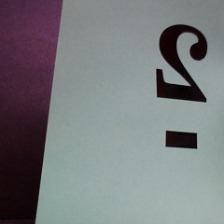green2: (144, 18, 215, 155)
